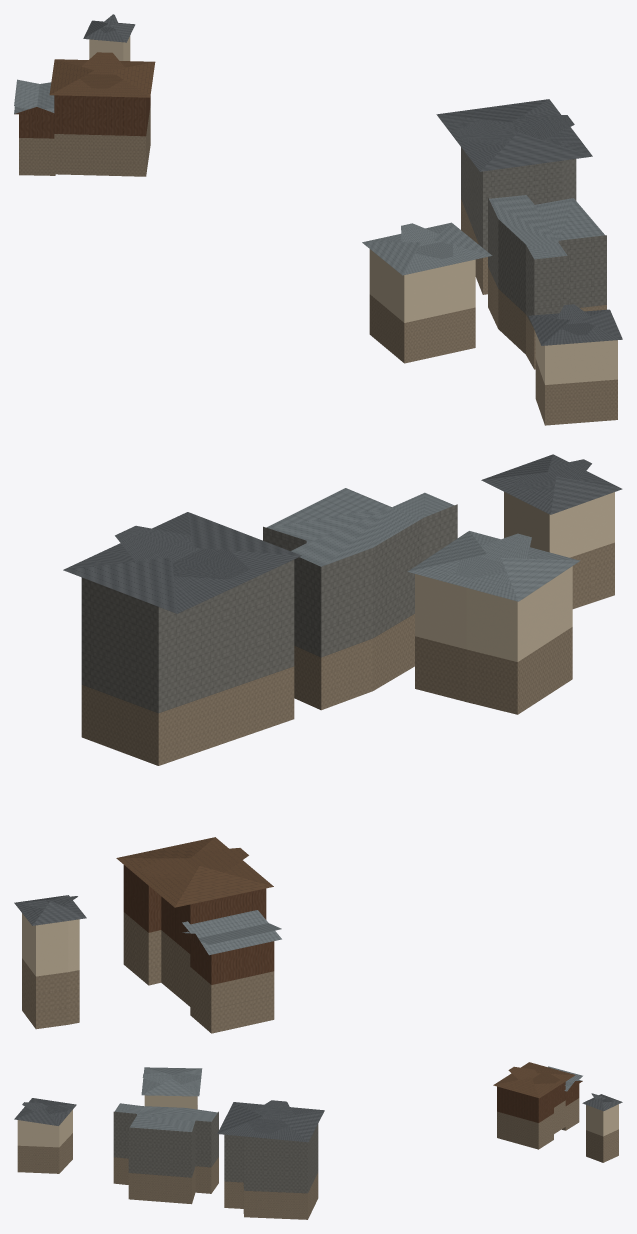
The model's file is bld_c31_-39_465.gltf.
3 views of the same model, one above another, from view 1: azimuth 30°, elevation 25°; view 2: azimuth 150°, elevation 25°; view 3: azimuth 270°, elevation 25° (orthographic). The views are drawn at different scales.
Visible parts, largest first — view 1: bld_c31_-39_465; view 2: bld_c31_-39_465; view 3: bld_c31_-39_465.
Part boxes in pixels (bbox=[...]): bld_c31_-39_465: bbox=[14, 14, 622, 425]; bld_c31_-39_465: bbox=[14, 454, 622, 1033]; bld_c31_-39_465: bbox=[14, 1062, 622, 1219].
Size of the model in its own units: 46.42 by 16.9 by 106.
Materials: 9 (9 with a texture image).
